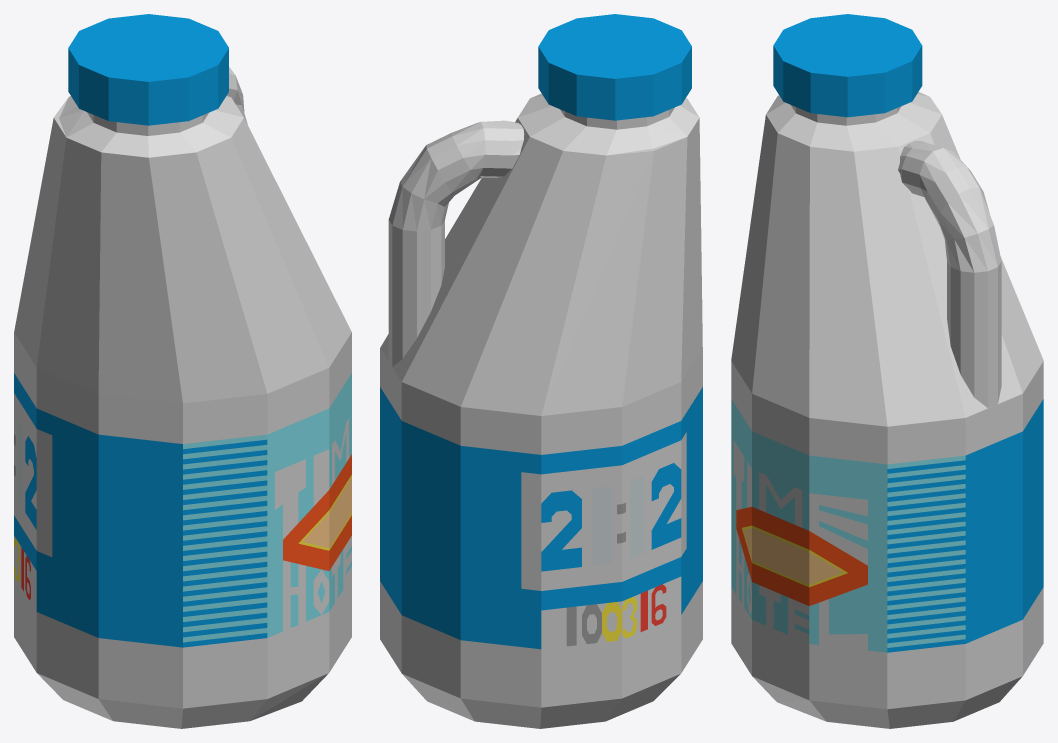
Rendered from TIME HOTEL 4.03.glb.
The picture shows the model from 3 angles, left to right: view 1: azimuth 30°, elevation 25°; view 2: azimuth 150°, elevation 25°; view 3: azimuth 270°, elevation 25°; orthographic projection. The views are drawn at different scales.
Parts seen in each view (by area): view 1: group1389919843, group1854920939, group1208064016, group1443499176; view 2: group1389919843, group1854920939, group1208064016, group1443499176, group1622467378, group410689586, group1413188404, group304957216; view 3: group1389919843, group1854920939, group1208064016, group1622467378, group1443499176, group410689586, group1413188404, group304957216.
Boxes of the visible parts, x1=… form: group1389919843: x1=14, y1=332, x2=351, y2=728; group1854920939: x1=14, y1=97, x2=351, y2=403; group1208064016: x1=68, y1=14, x2=228, y2=125; group1443499176: x1=59, y1=96, x2=243, y2=157; group1389919843: x1=380, y1=348, x2=702, y2=728; group1854920939: x1=380, y1=118, x2=702, y2=415; group1208064016: x1=538, y1=14, x2=691, y2=120; group1443499176: x1=518, y1=93, x2=699, y2=155; group1622467378: x1=388, y1=220, x2=444, y2=366; group410689586: x1=388, y1=145, x2=454, y2=231; group1413188404: x1=426, y1=122, x2=485, y2=195; group304957216: x1=480, y1=120, x2=524, y2=177; group1389919843: x1=731, y1=361, x2=1043, y2=728; group1854920939: x1=731, y1=91, x2=1043, y2=426; group1208064016: x1=773, y1=14, x2=922, y2=117; group1622467378: x1=947, y1=261, x2=1001, y2=407; group1443499176: x1=766, y1=92, x2=941, y2=151; group410689586: x1=938, y1=187, x2=1001, y2=272; group1413188404: x1=919, y1=148, x2=982, y2=225; group304957216: x1=898, y1=140, x2=942, y2=197.
Size of the model in its own units: 1.26 by 2.69 by 1.26.
